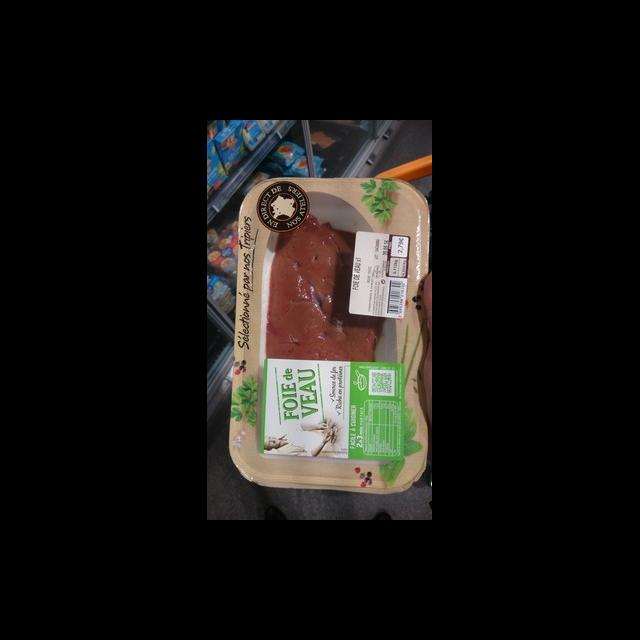beef: (265, 217, 378, 366)
